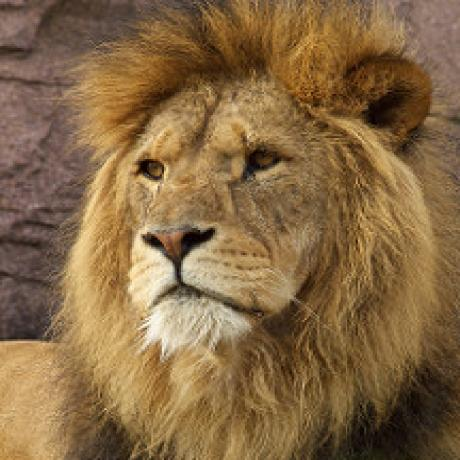Lion: (0, 3, 460, 460)
